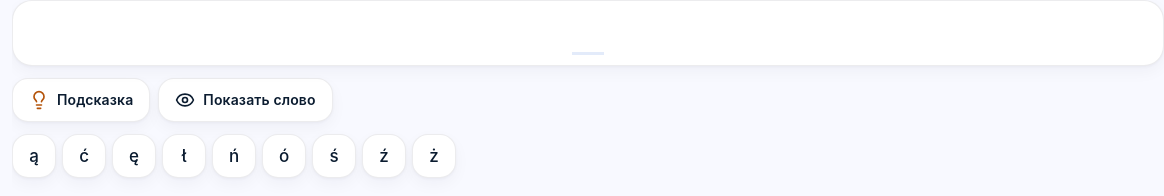
Test: LetterSlotsInput — typing › the next keystroke replaces a wrong letter instead of appending after it
Type "zk" into the field labelled "_" at (588, 33), box [12,0,1163,66]
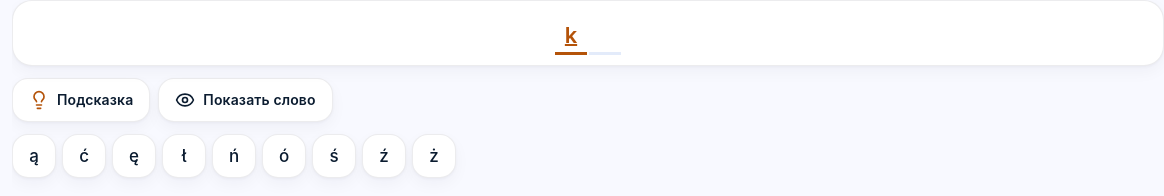
Result: the text "k" is shown at [555,11,587,55]
